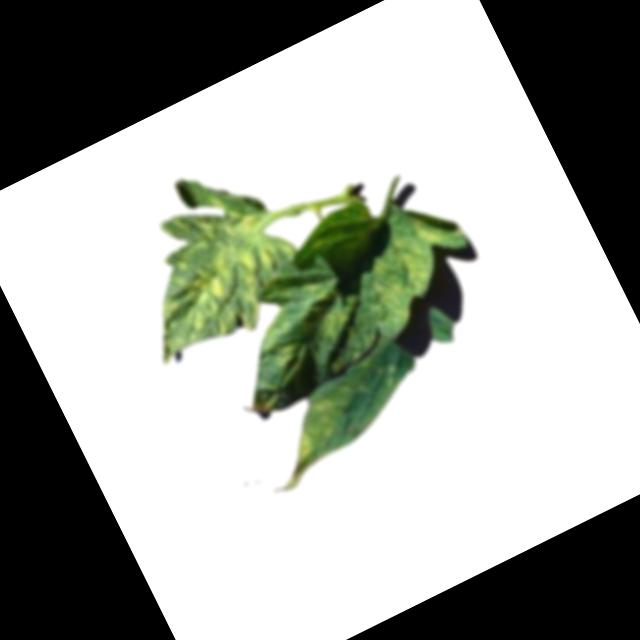Leaf_Mold: (106, 173, 321, 371), (353, 203, 488, 331), (249, 387, 368, 494)
